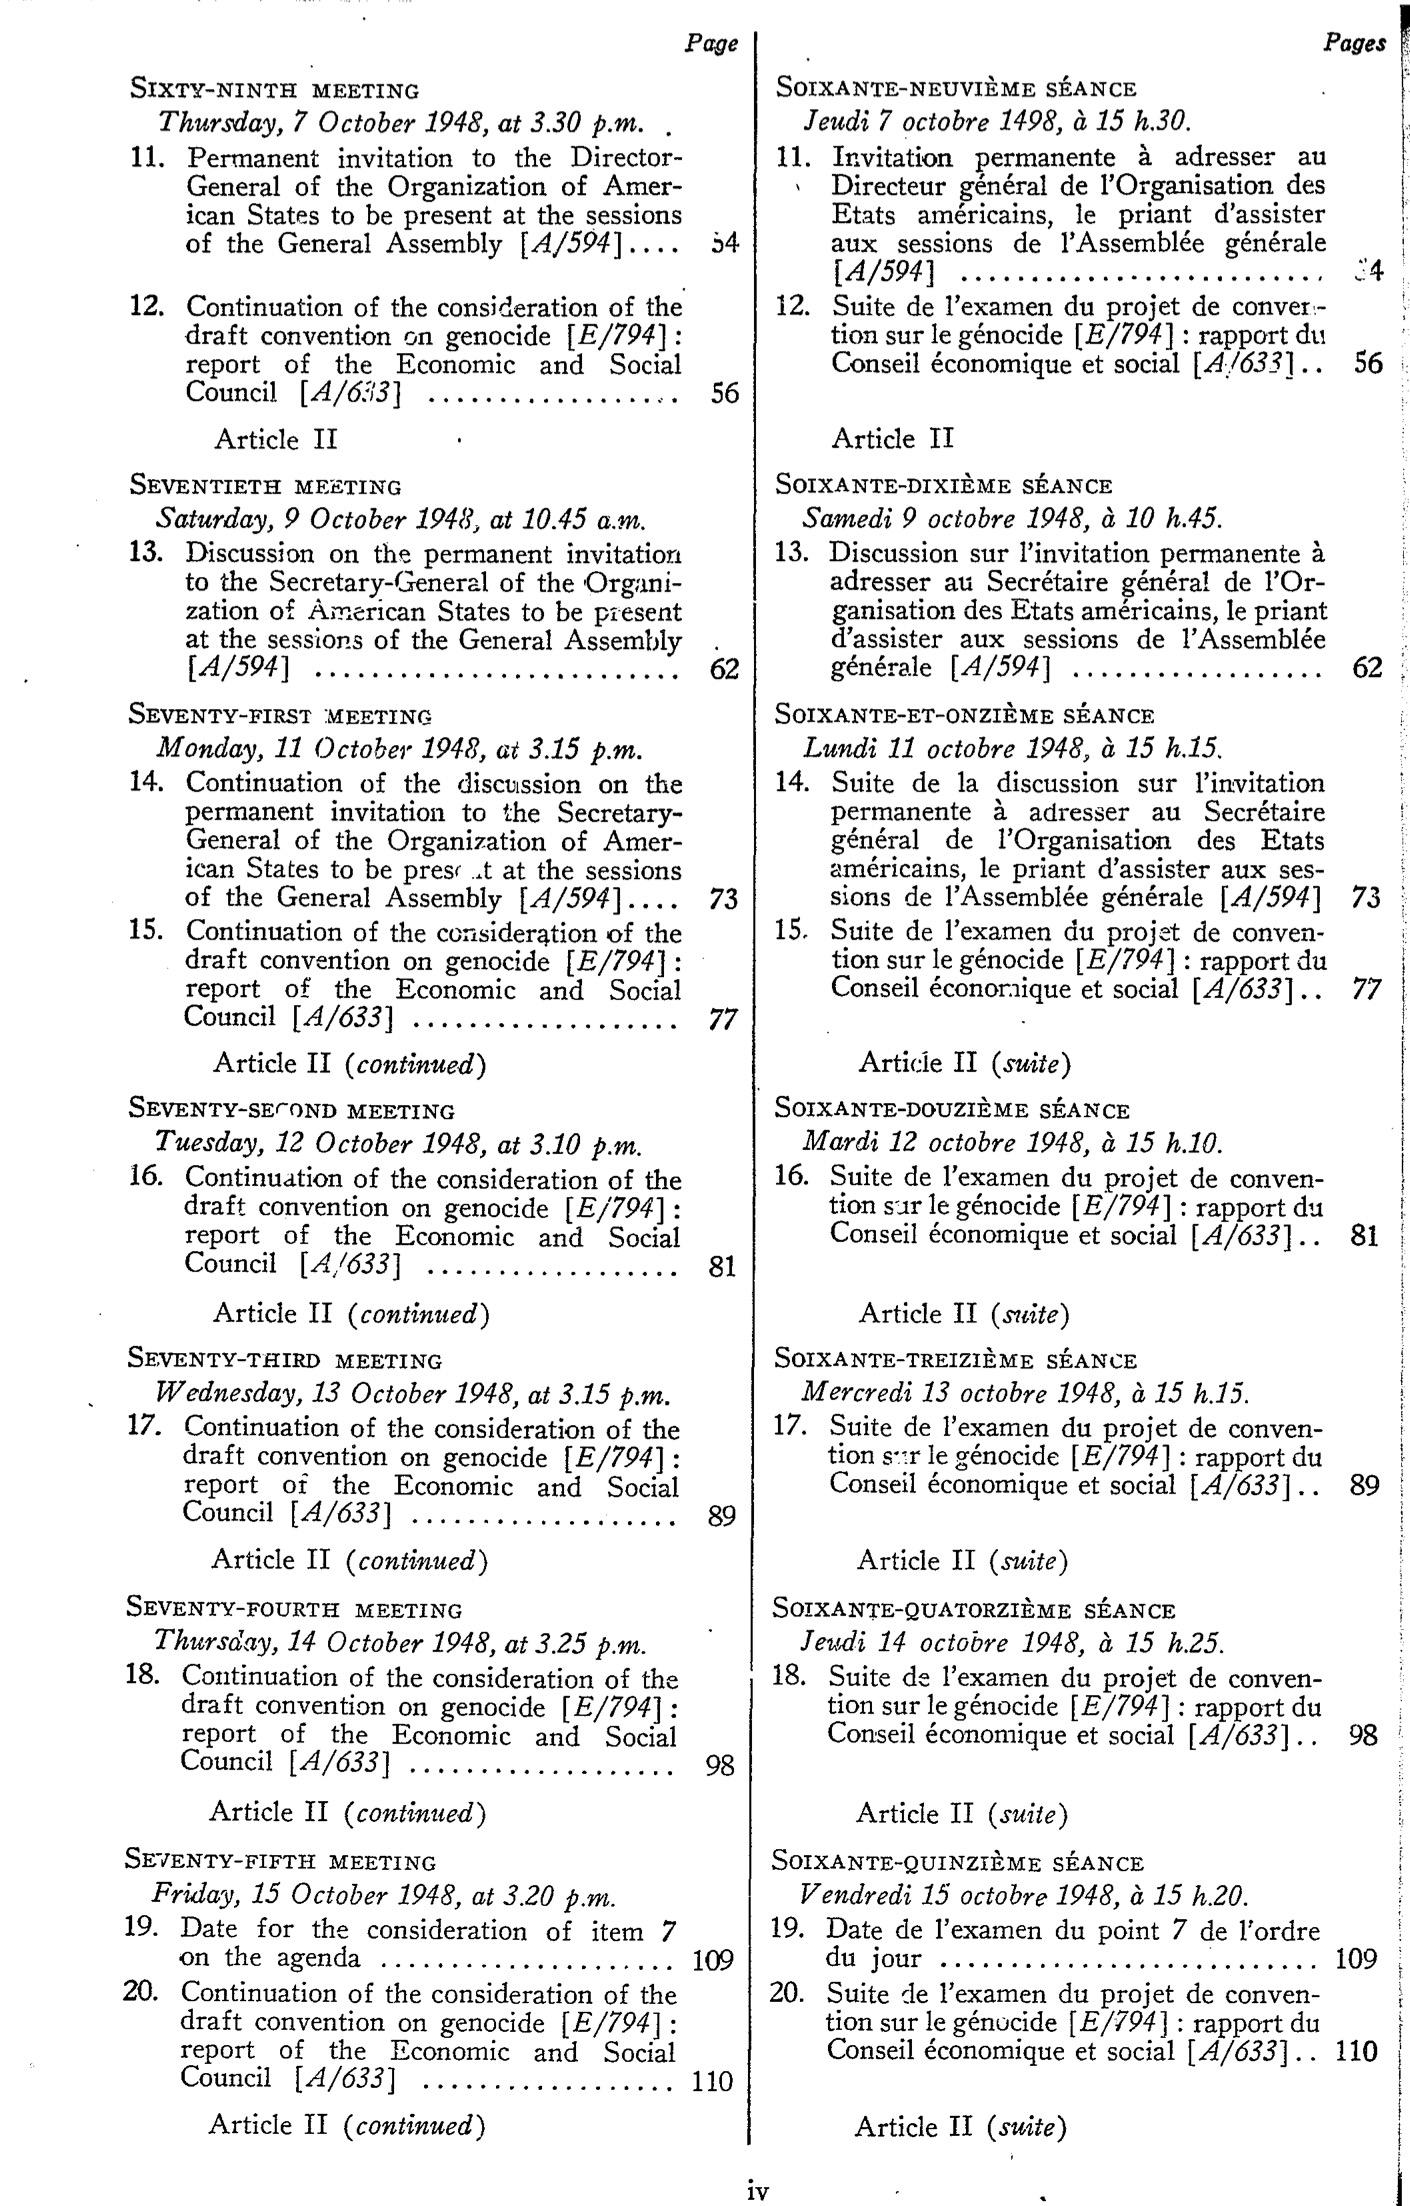QuireMarksZone: (98, 10, 748, 2155), (767, 18, 1410, 2155)
TitlePageZone: (741, 2177, 777, 2206)
